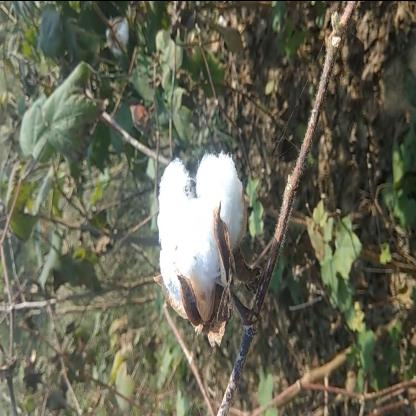cotton_ready: (134, 119, 284, 367)
